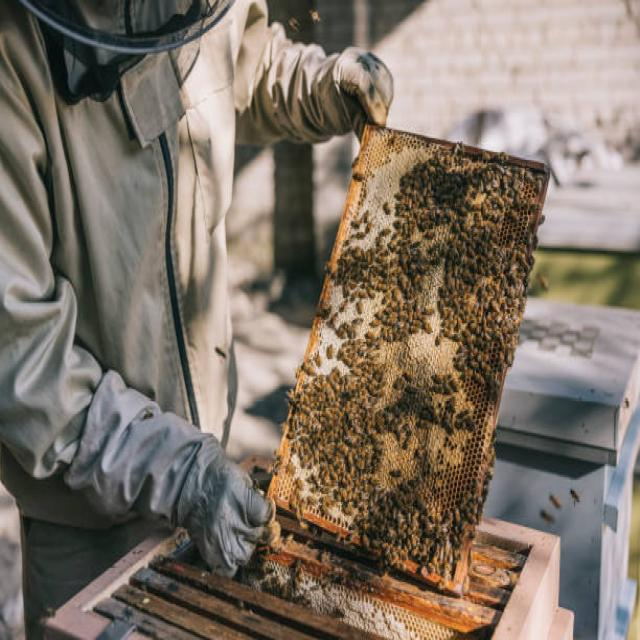Gloves: (58, 359, 278, 586), (243, 17, 399, 149)
